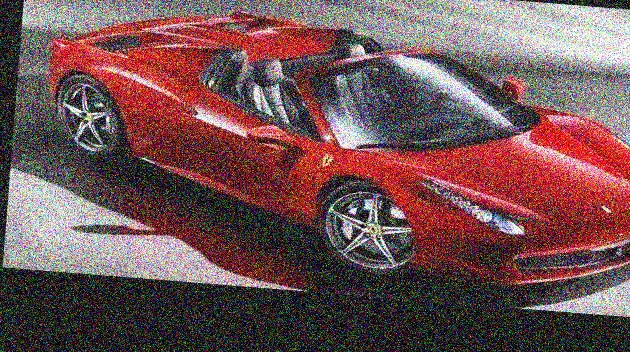car: (12, 0, 630, 316)
